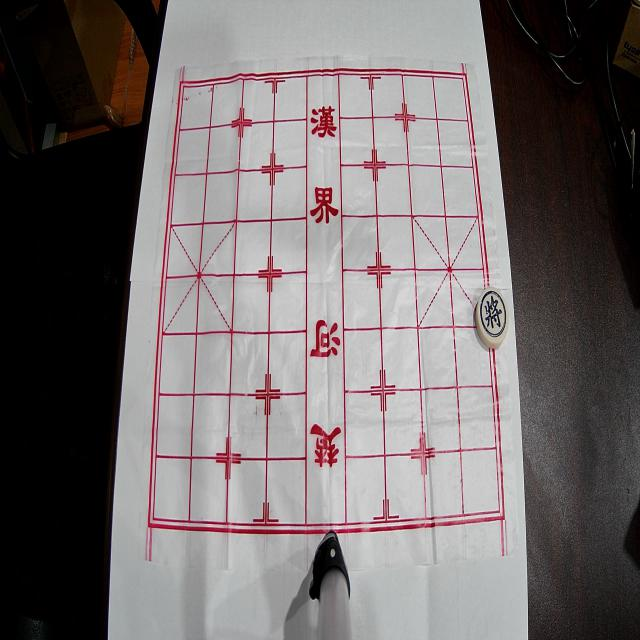black-general: (476, 287, 510, 349)
